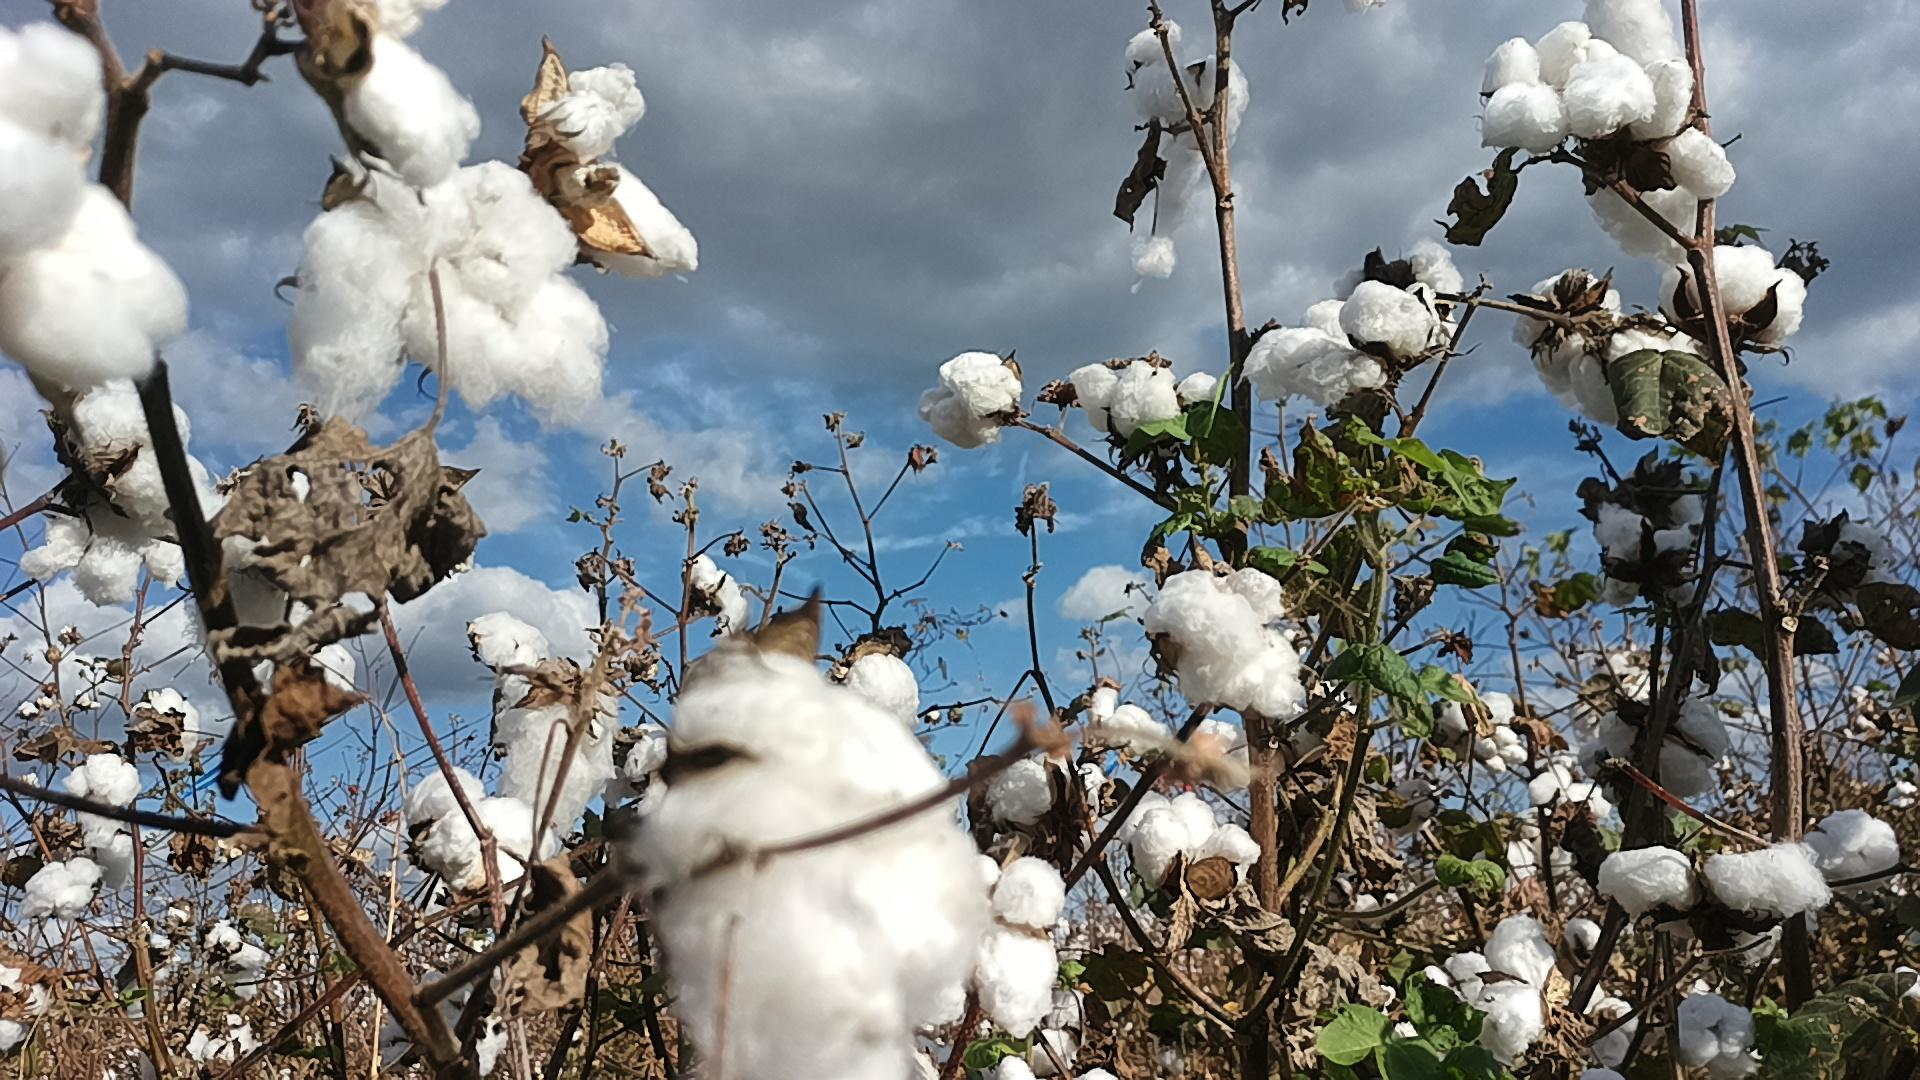cotton_ready: (641, 650, 976, 1080), (295, 161, 609, 431), (0, 185, 190, 385), (1588, 0, 1738, 248), (542, 66, 698, 284), (1122, 22, 1246, 281), (328, 0, 483, 189), (211, 526, 356, 702), (78, 381, 233, 535), (1150, 568, 1308, 720), (0, 24, 104, 245), (944, 856, 1068, 1040), (1478, 21, 1651, 150), (407, 766, 554, 903), (1441, 919, 1563, 1080), (496, 678, 616, 835), (1592, 849, 1833, 923), (18, 516, 190, 608), (1660, 241, 1808, 345), (1246, 301, 1387, 407), (1568, 319, 1698, 426), (1515, 272, 1623, 398), (1122, 793, 1263, 886), (1594, 705, 1730, 800), (1069, 361, 1218, 446), (981, 753, 1104, 831), (1598, 489, 1708, 574), (915, 356, 1018, 446), (1673, 990, 1766, 1080), (1341, 281, 1432, 364), (1801, 812, 1898, 881), (1833, 524, 1902, 601)
